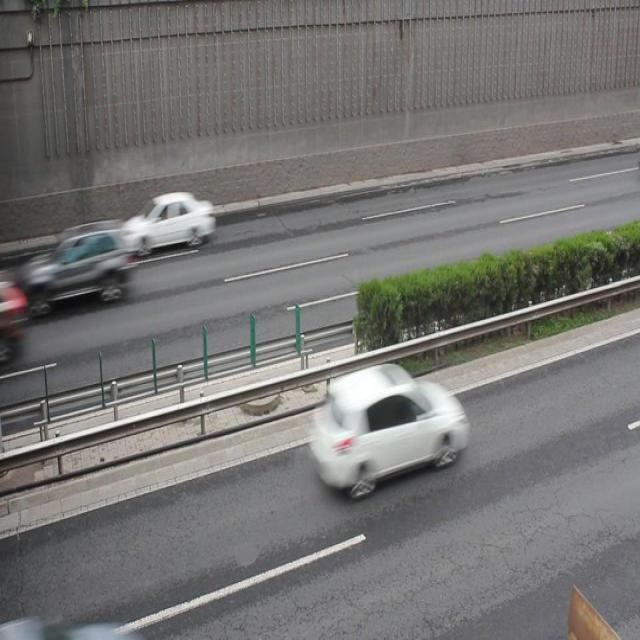car: (309, 359, 466, 493), (35, 219, 134, 310), (124, 188, 214, 255)
